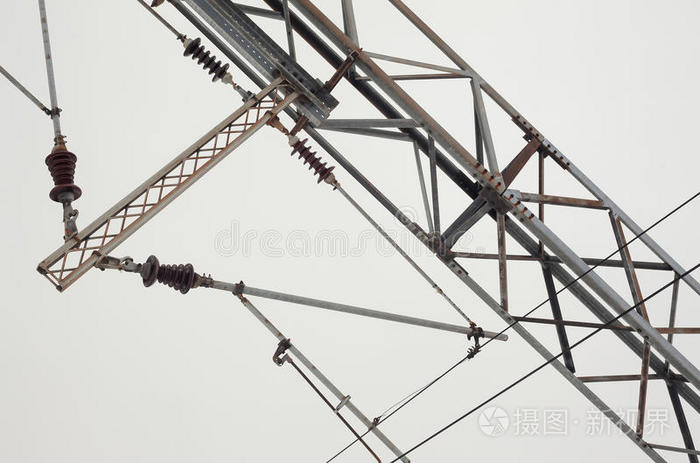insulator: (183, 40, 229, 81), (291, 138, 333, 181)
